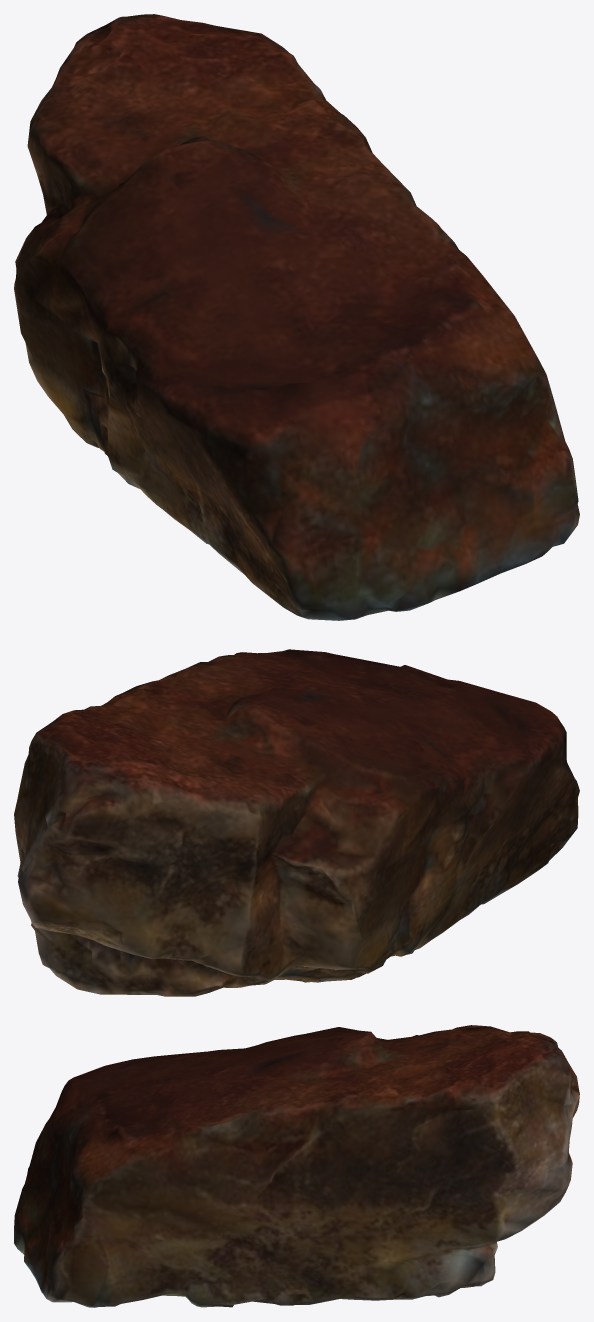
File: rock_07.glb
3 views of the same model, one above another, from view 1: azimuth 30°, elevation 25°; view 2: azimuth 150°, elevation 25°; view 3: azimuth 270°, elevation 25° (orthographic). The views are drawn at different scales.
Parts seen in each view (by area): view 1: rock_07; view 2: rock_07; view 3: rock_07.
Boxes of the visible parts, x1,y1,x2,y2 form: rock_07: (14, 14, 579, 620); rock_07: (14, 649, 579, 996); rock_07: (14, 1025, 579, 1307).
Size of the model in its own units: 0.1681 by 0.1437 by 0.3199.
1 material, 1 textured.
